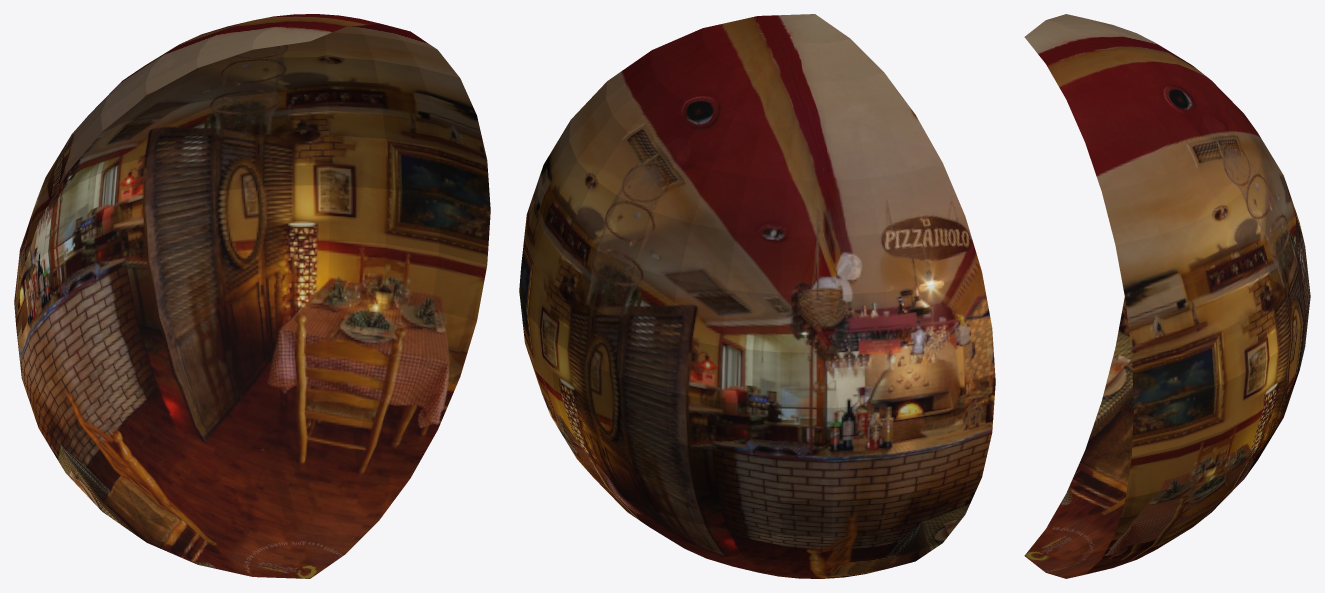
The model's file is calota135.obj.
The picture shows the model from 3 angles, left to right: view 1: azimuth 30°, elevation 25°; view 2: azimuth 150°, elevation 25°; view 3: azimuth 270°, elevation 25°; orthographic projection. The views are drawn at different scales.
Parts seen in each view (by area): view 1: Sphere.001; view 2: Sphere.001; view 3: Sphere.001.
Part boxes in pixels (x1,y1,x2,y2): Sphere.001: (14, 14, 490, 578); Sphere.001: (519, 14, 995, 578); Sphere.001: (1024, 14, 1310, 578).
Bounding box in the file's own units: 3.7 × 4 × 2.
